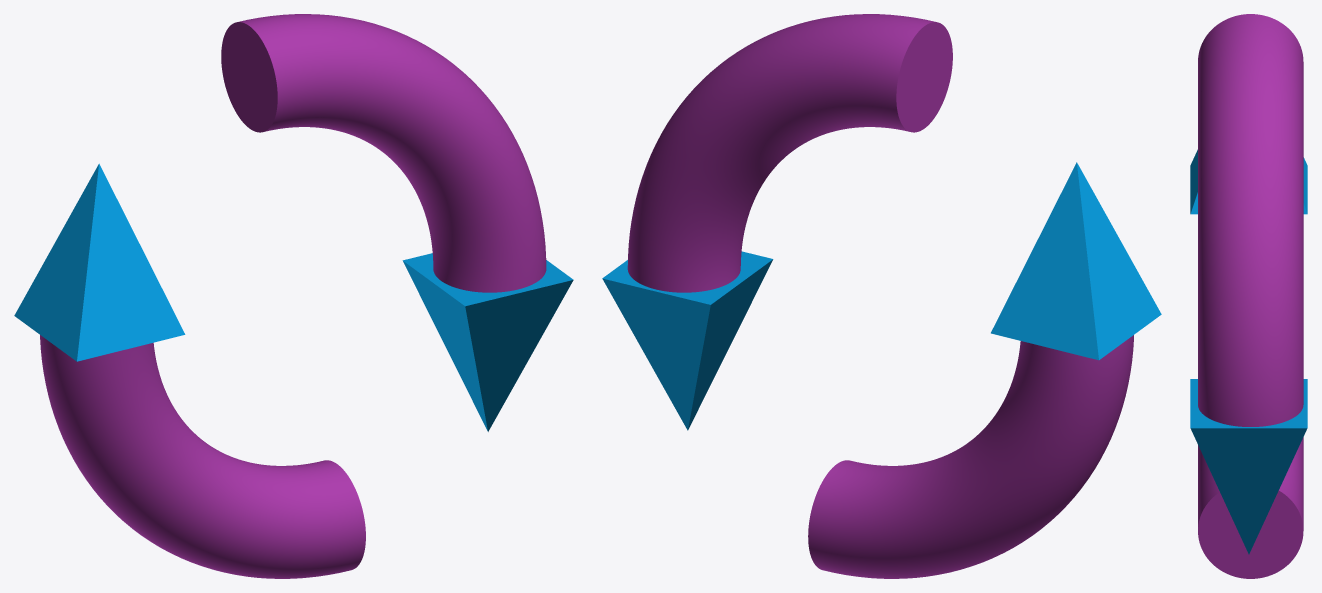
Rendered from LarryTheLoop.glb.
The picture shows the model from 3 angles, left to right: view 1: azimuth 30°, elevation 25°; view 2: azimuth 150°, elevation 25°; view 3: azimuth 270°, elevation 25°; orthographic projection. The views are drawn at different scales.
Parts seen in each view (by area): view 1: mesh_id37, mesh_id46, mesh_id47, mesh_id39; view 2: mesh_id37, mesh_id46, mesh_id47, mesh_id39; view 3: mesh_id37, mesh_id39, mesh_id46, mesh_id47.
Part boxes in pixels (<box>): mesh_id37: <box>221,14,546,292</box>; mesh_id46: <box>40,335,365,578</box>; mesh_id47: <box>14,163,185,361</box>; mesh_id39: <box>402,253,573,431</box>; mesh_id37: <box>627,14,952,292</box>; mesh_id46: <box>808,335,1133,578</box>; mesh_id47: <box>991,162,1161,360</box>; mesh_id39: <box>602,251,773,430</box>; mesh_id37: <box>1198,14,1303,426</box>; mesh_id39: <box>1190,379,1307,554</box>; mesh_id46: <box>1198,437,1303,578</box>; mesh_id47: <box>1190,149,1307,214</box>.
Size of the model in its own units: 0.4769 by 0.5156 by 0.1042.
Materials: 2 (2 with a texture image).
